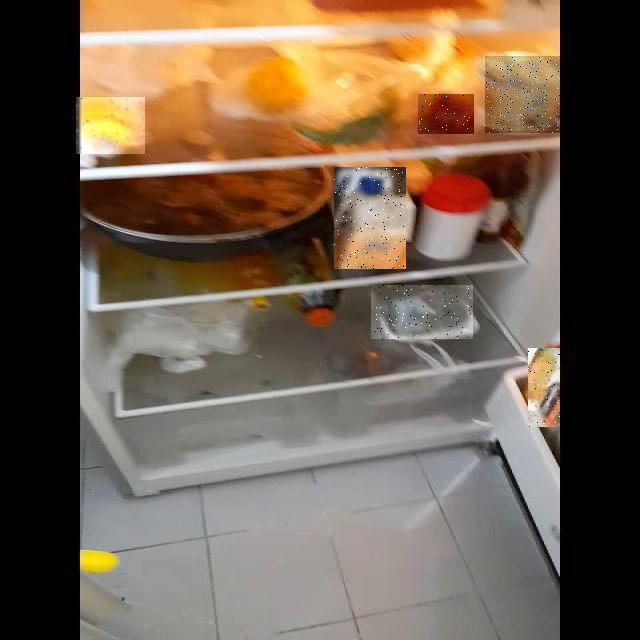Broccoli: (371, 285, 473, 339)
Juice: (528, 348, 560, 427)
Lemon: (76, 97, 145, 154)
Milk: (335, 167, 407, 269)
Tomato Paste: (419, 94, 475, 134)
Yoghurt: (485, 56, 560, 133)
